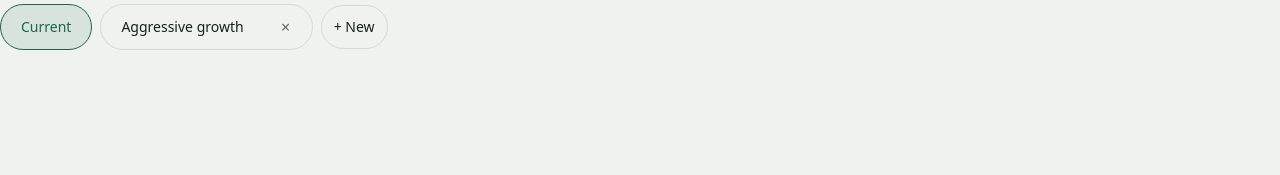
LedgerTabStrip › cancelling the confirmation leaves the ledger untouched
The image size is (1280, 175).
Click the button named "delete aggressive growth" at (286, 27), box [264,5,308,49]
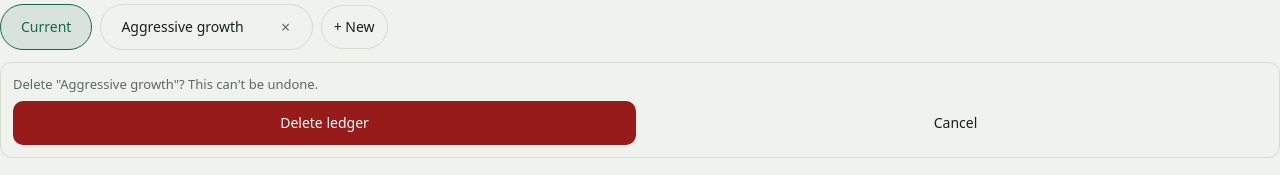
Click the button "Cancel" at (956, 123), box [644,101,1267,145]
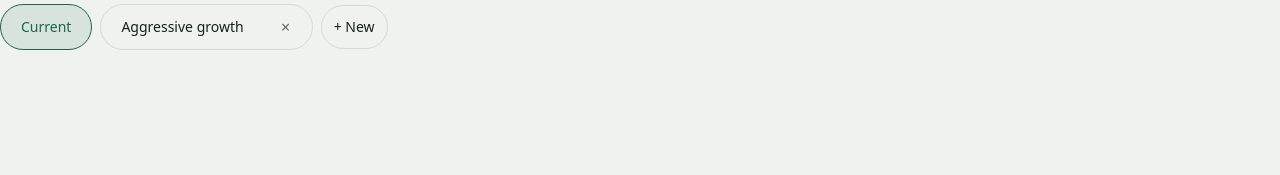
Check: the text "This can't be undone" is gone
